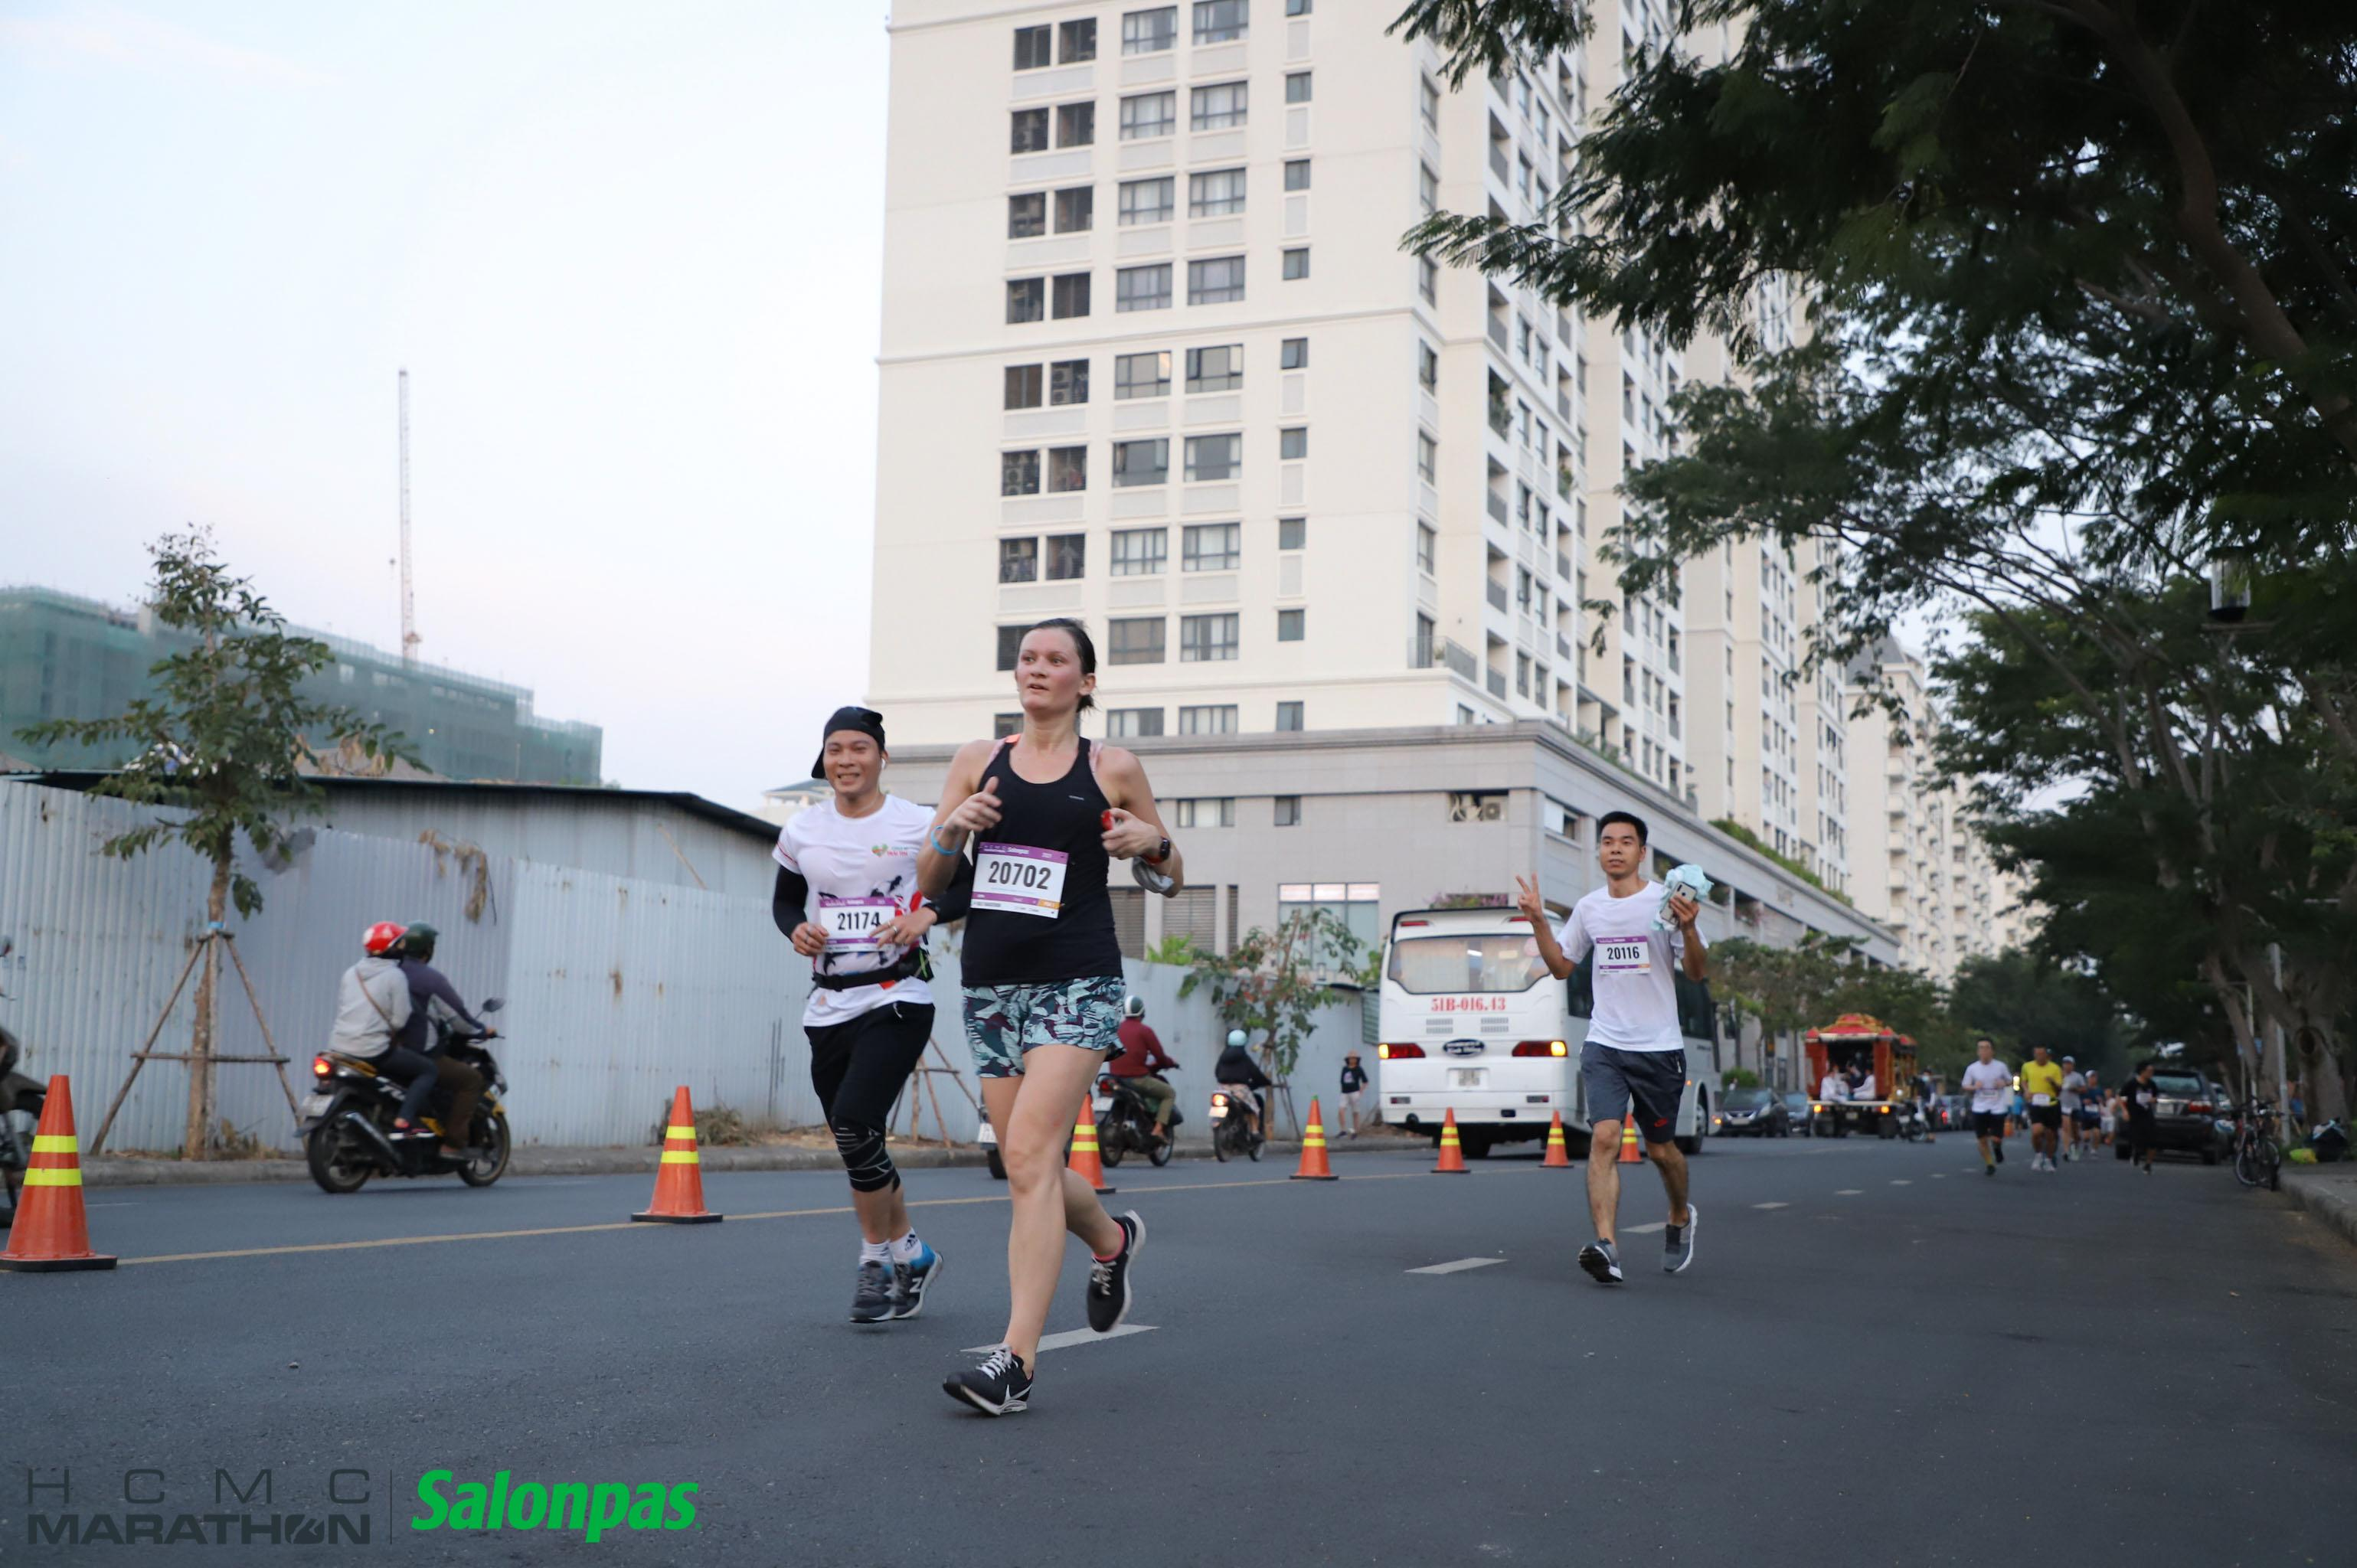bib: (971, 840, 1071, 919), (826, 901, 892, 950), (1599, 938, 1647, 971), (1979, 1085, 1998, 1097), (2033, 1094, 2051, 1106)
